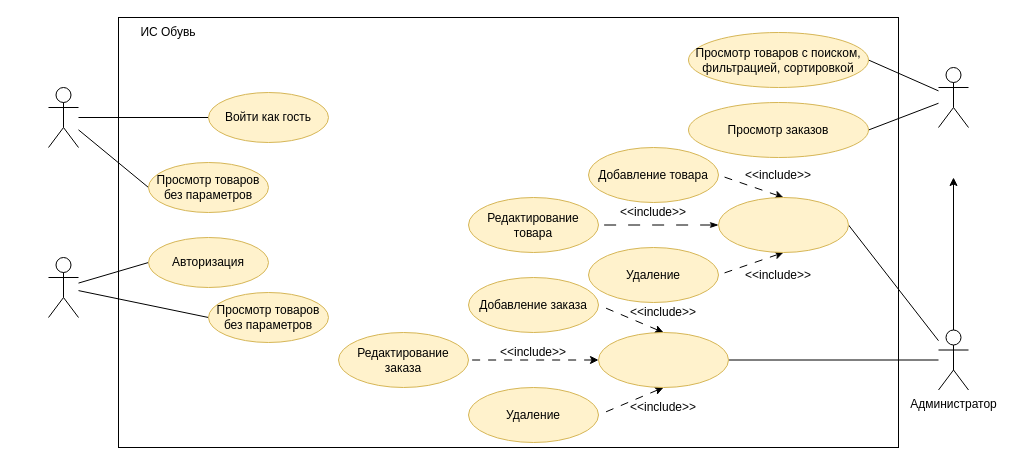
The diagram is 1014 pixels wide and 465 high, and some of its shapes have lost their labels. The centre of each missing label's shape, as x and y in pixels:
Авторизованный клиент: [63,287]
Гость: [63,117]
Менеджер: [953,97]
Управление заказами: [663,360]
Управление товарами: [783,224]
